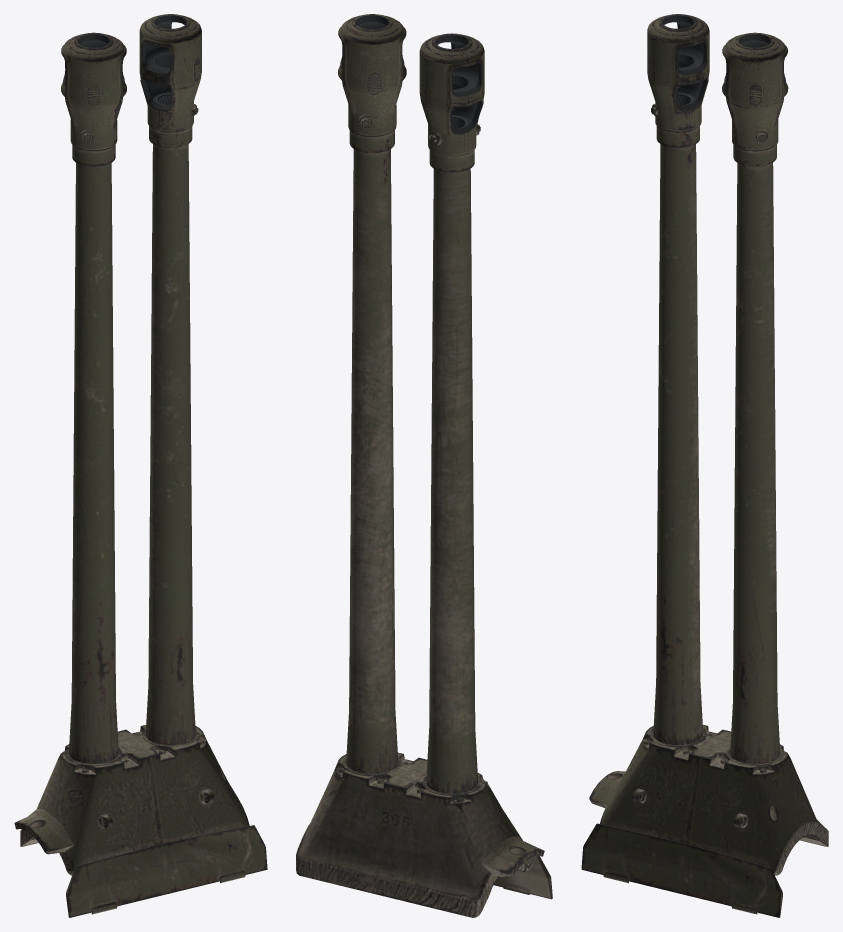
The model's file is Gun_01.glb.
3 renders of one model, left to right at view 1: azimuth 30°, elevation 25°; view 2: azimuth 150°, elevation 25°; view 3: azimuth 330°, elevation 25°, orthographic. The views are drawn at different scales.
Parts seen in each view (by area): view 1: set_0_group_0; view 2: set_0_group_0; view 3: set_0_group_0.
Part boxes in pixels (x1,y1,x2,y2): set_0_group_0: (14,14,267,917); set_0_group_0: (296,14,552,917); set_0_group_0: (581,14,828,917).
Size of the model in its own units: 1.15 by 4.48 by 0.6.
1 material, 1 textured.
